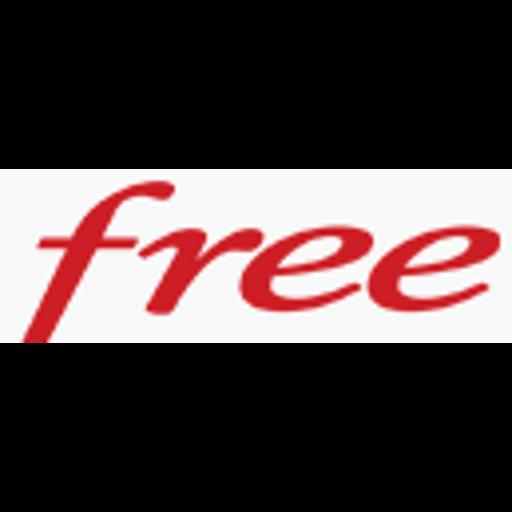Free ISP: (0, 169, 512, 343)
